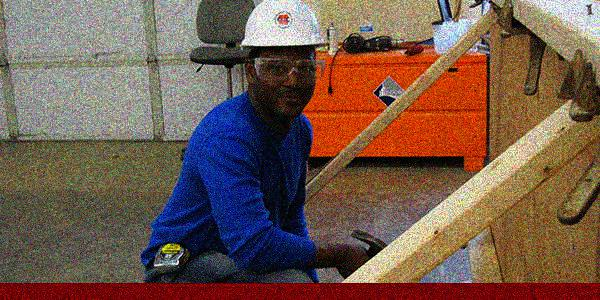helmet: (240, 1, 332, 116)
